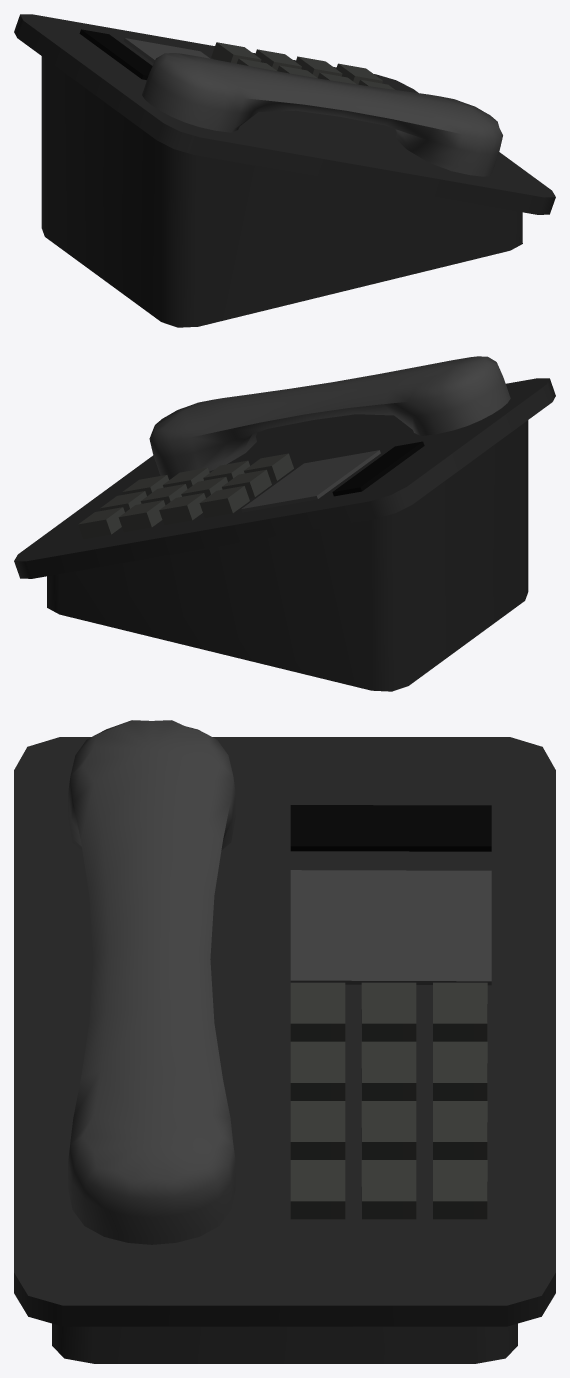
The model's file is Phone.glb.
3 renders of one model, top to bottom at view 1: azimuth 30°, elevation 25°; view 2: azimuth 150°, elevation 25°; view 3: azimuth 270°, elevation 25°, orthographic. The views are drawn at different scales.
Visible parts, largest first — view 1: Cube.002; view 2: Cube.002; view 3: Cube.002.
Part boxes in pixels (left/top/right/bottom): Cube.002: left=14, top=14, right=555, bottom=327; Cube.002: left=14, top=356, right=555, bottom=691; Cube.002: left=14, top=720, right=555, bottom=1363.
Size of the model in its own units: 0.3332 by 0.1926 by 0.2456.
Materials: 1 (1 with a texture image).
